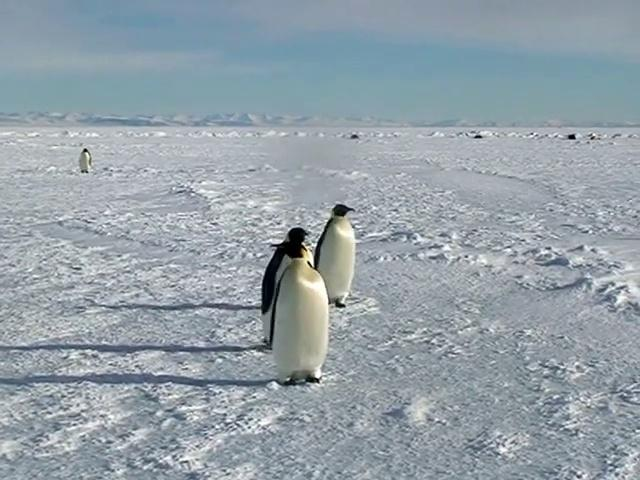animal: (315, 205, 356, 309)
